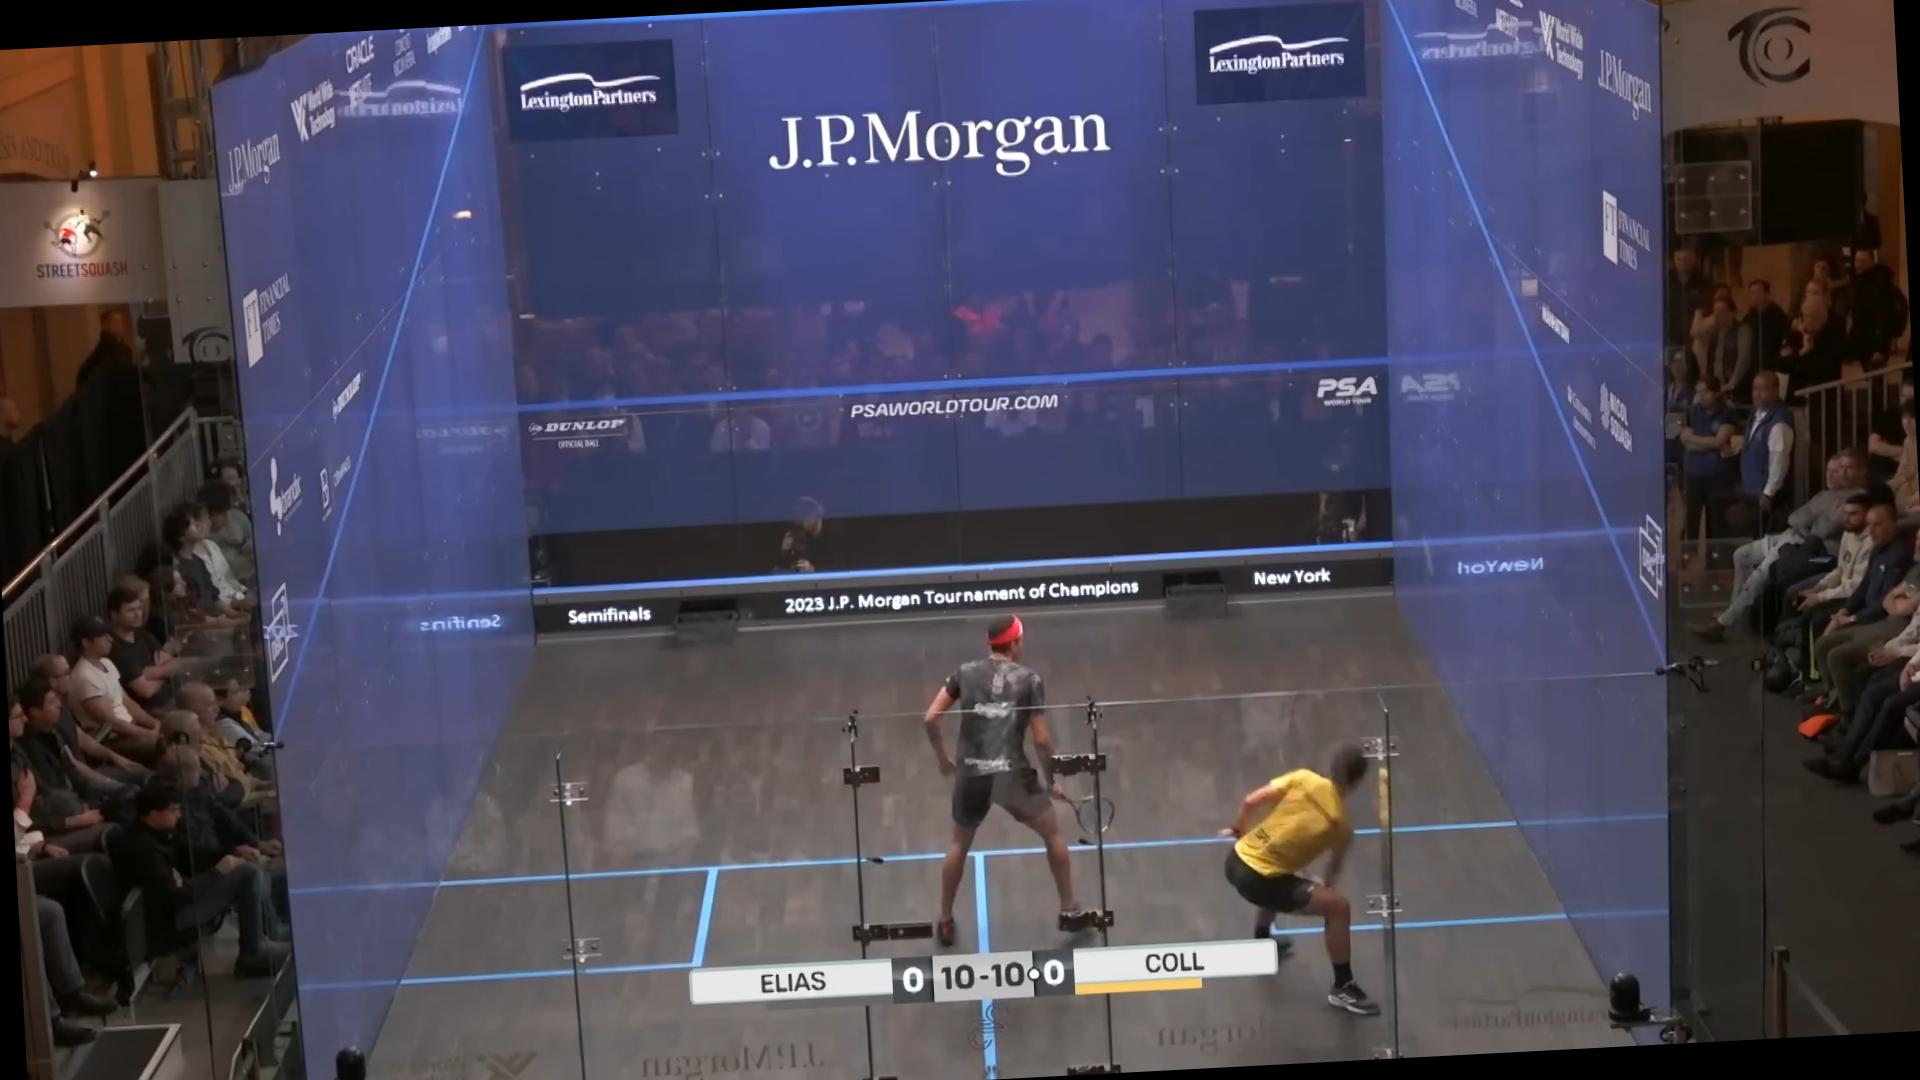Racket: (1047, 778, 1126, 853)
